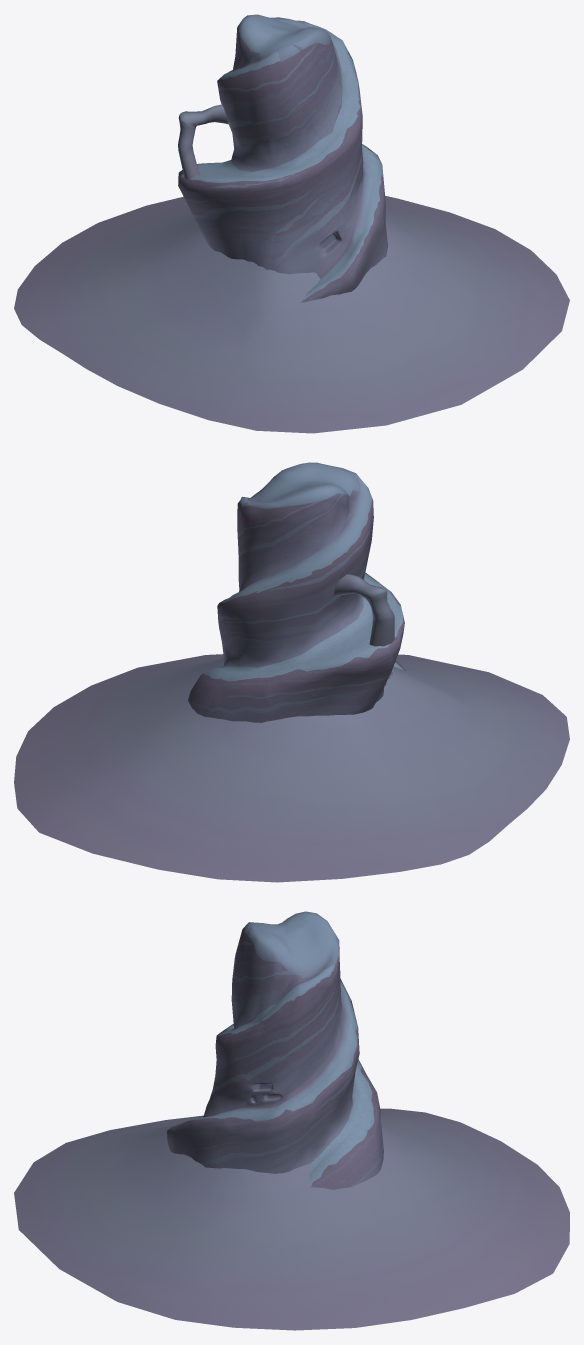
File: mountaintemple.fbx
The picture shows the model from 3 angles, top to bottom: view 1: azimuth 30°, elevation 25°; view 2: azimuth 150°, elevation 25°; view 3: azimuth 270°, elevation 25°; orthographic projection. The views are drawn at different scales.
Parts seen in each view (by area): view 1: mountainground, mountaintemple4:Generic, mountainarch; view 2: mountainground, mountaintemple4:Generic, mountainarch; view 3: mountainground, mountaintemple4:Generic.
Part boxes in pixels (x1=…): mountainground: x1=14, y1=195, x2=569, y2=433; mountaintemple4:Generic: x1=178, y1=14, x2=387, y2=302; mountainarch: x1=178, y1=104, x2=228, y2=179; mountainground: x1=14, y1=654, x2=569, y2=882; mountaintemple4:Generic: x1=188, y1=462, x2=406, y2=722; mountainarch: x1=334, y1=574, x2=394, y2=646; mountainground: x1=14, y1=1108, x2=569, y2=1330; mountaintemple4:Generic: x1=167, y1=911, x2=383, y2=1189.
Size of the model in its own units: 0.5526 by 0.3332 by 0.5882.
